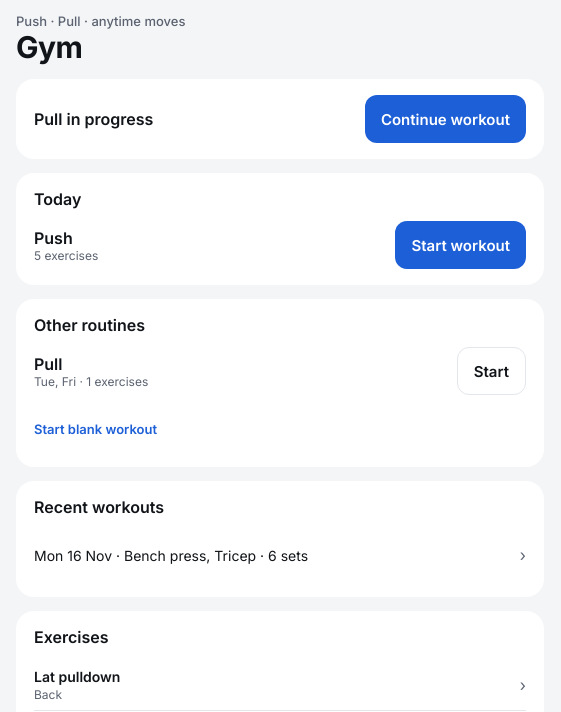
the question names typed numbers when nothing is saved yet
Click the button "Start workout".
click(461, 245)  # box x1=396 y1=221 x2=526 y2=269
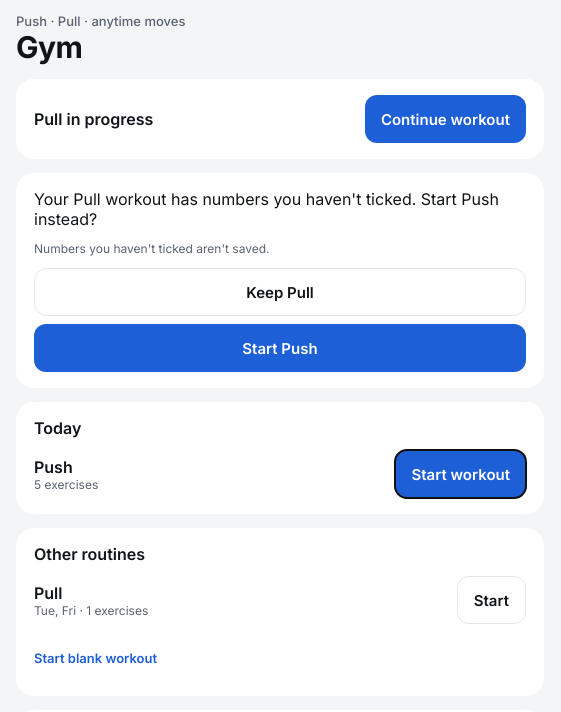
Now the element named "Switch workout" shows "Your Pull workout has numbers you haven't ticked. Start Push instead?", box x1=34 y1=189 x2=499 y2=229
